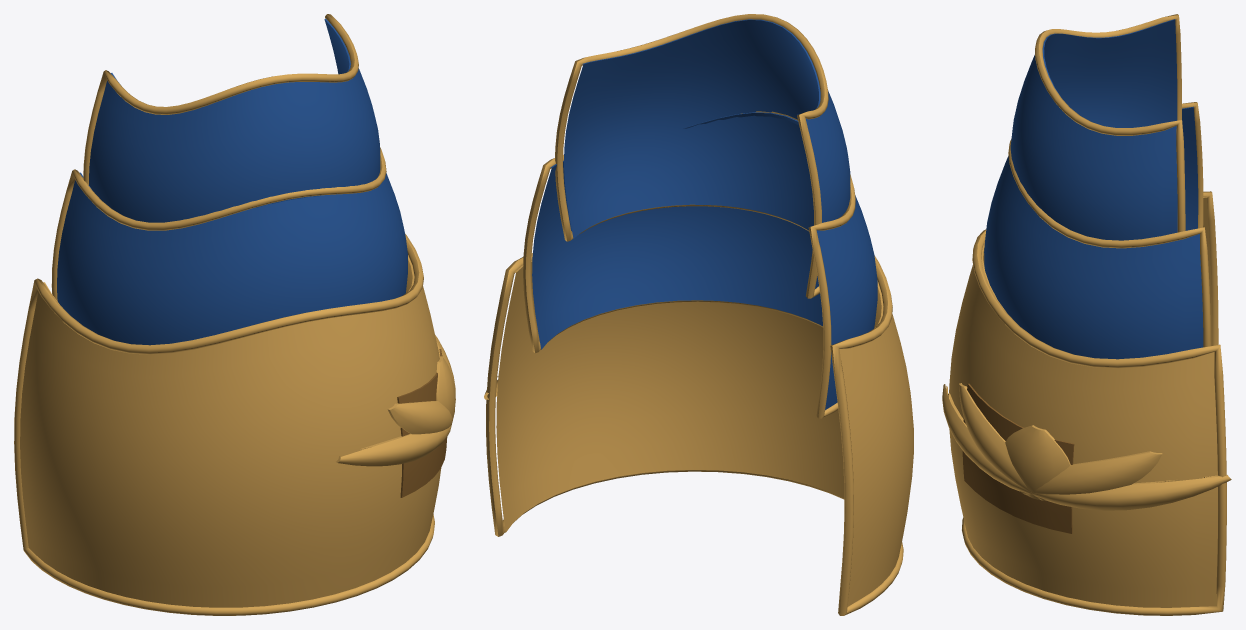
File: shoulder-armour-near.glb
3 renders of one model, left to right at view 1: azimuth 30°, elevation 25°; view 2: azimuth 150°, elevation 25°; view 3: azimuth 270°, elevation 25°, orthographic. The views are drawn at different scales.
Visible parts, largest first — view 1: OriginalLeftShoulderArmour; view 2: OriginalLeftShoulderArmour; view 3: OriginalLeftShoulderArmour.
Part boxes in pixels (x1,y1,x2,y2): OriginalLeftShoulderArmour: (14, 14, 455, 615); OriginalLeftShoulderArmour: (484, 14, 913, 615); OriginalLeftShoulderArmour: (942, 14, 1231, 615).
Size of the model in its own units: 0.2414 by 0.302 by 0.1629.
